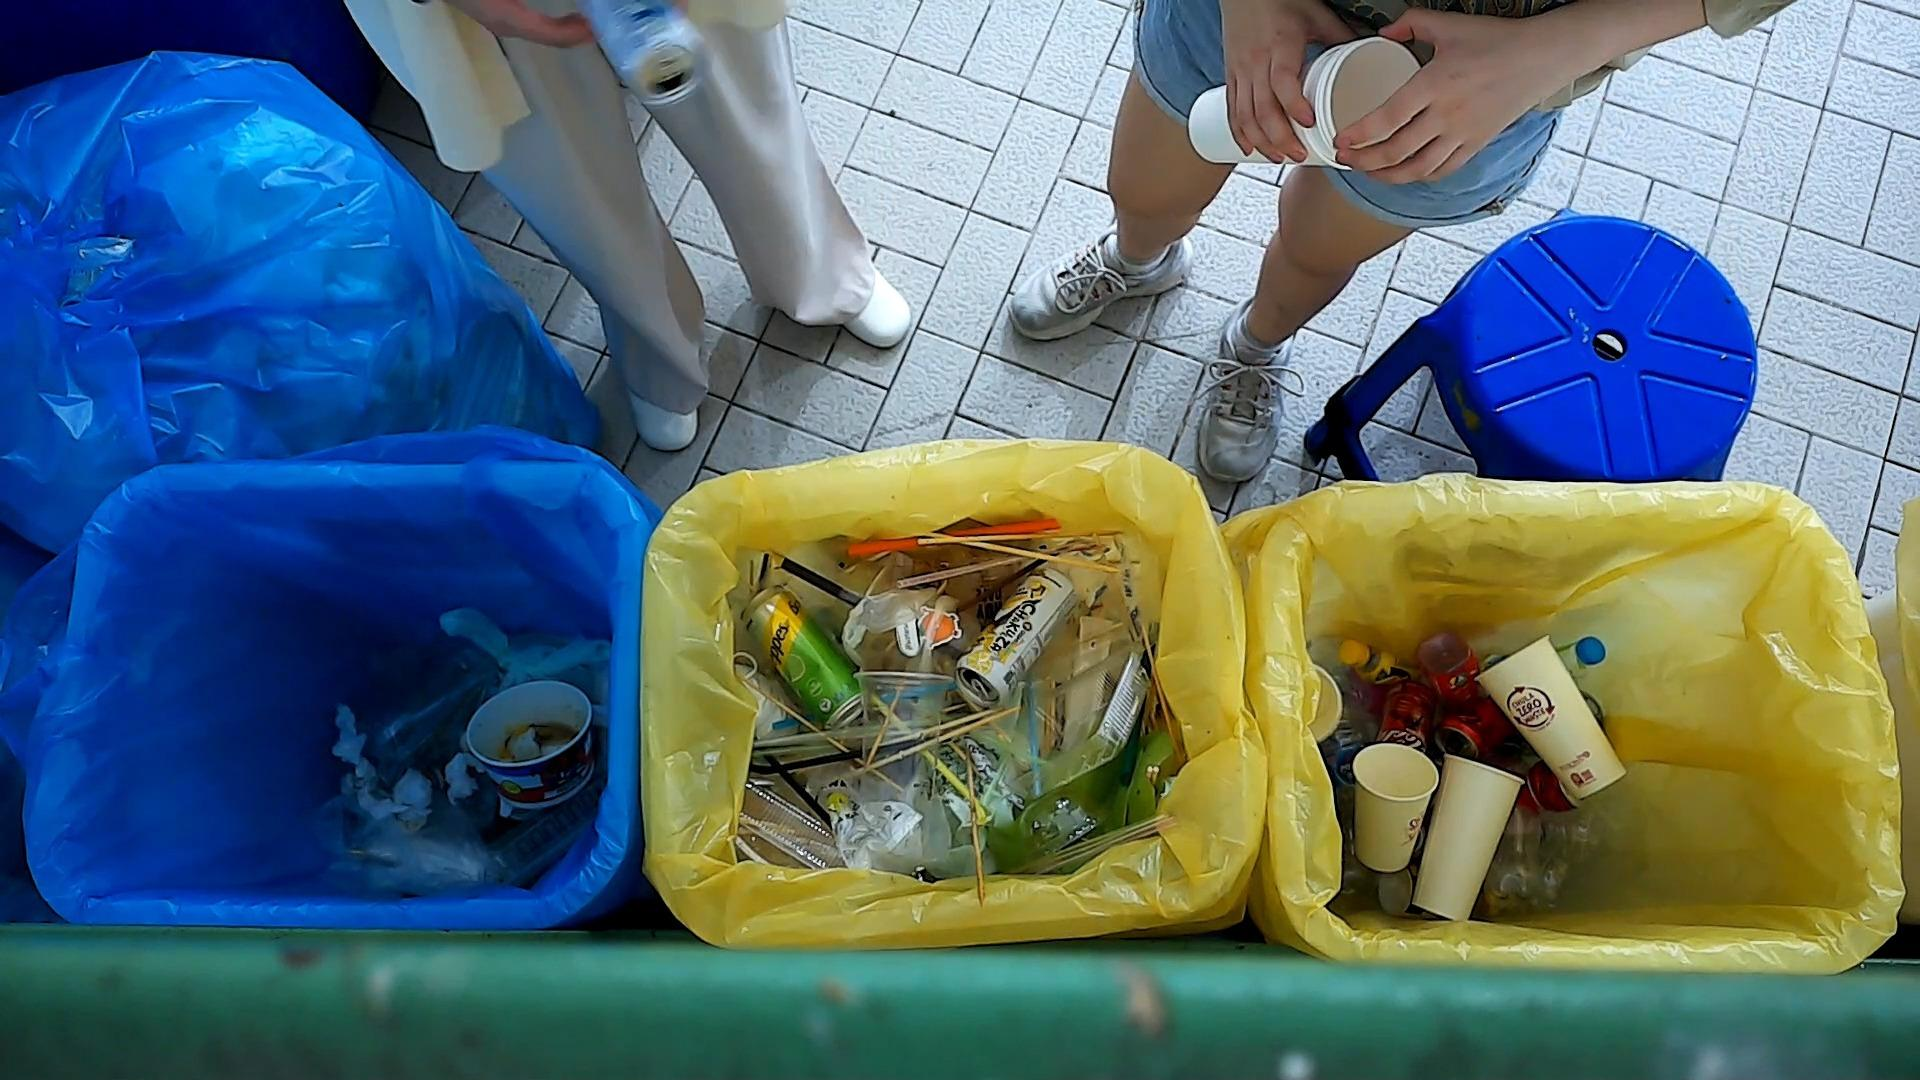can: (738, 580, 882, 728), (951, 562, 1081, 712), (574, 0, 717, 113), (1432, 695, 1523, 764), (1371, 676, 1444, 757), (1520, 758, 1586, 819)
dirty food container: (463, 678, 597, 814)
food container: (1000, 644, 1154, 807)
plastic bag: (828, 753, 960, 880)
plastic cup: (840, 562, 985, 679), (849, 667, 961, 815)
sticks: (740, 674, 907, 795), (851, 703, 1023, 778), (920, 529, 1122, 580), (1139, 620, 1185, 771), (870, 707, 997, 750), (913, 526, 1130, 547), (963, 746, 988, 909)
straw: (864, 688, 990, 829), (746, 732, 953, 775), (952, 553, 1064, 626), (750, 717, 931, 758), (762, 750, 840, 833), (893, 555, 1027, 591), (778, 553, 862, 608), (1023, 673, 1044, 800)
tissue paper: (355, 764, 435, 831), (327, 702, 380, 782), (442, 750, 487, 810)
zero waste cup: (1183, 29, 1428, 174), (1470, 630, 1622, 802), (1408, 749, 1527, 922), (1349, 741, 1441, 876)
